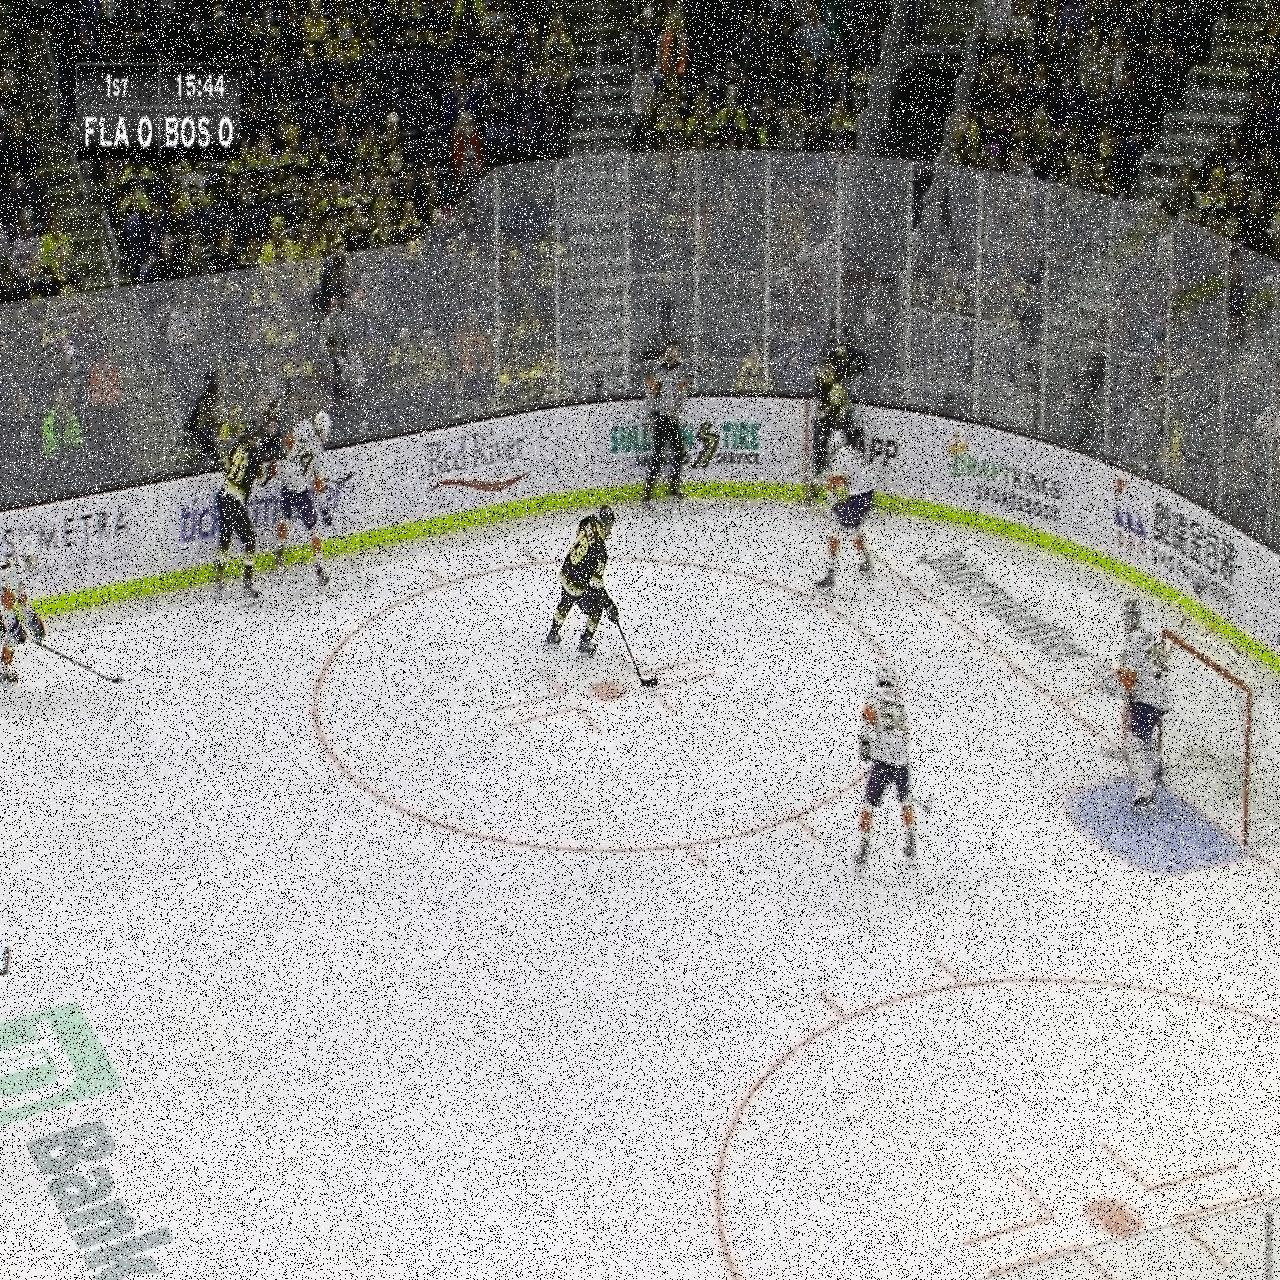Ad: (4, 961, 182, 1279), (912, 543, 1092, 690), (1115, 459, 1245, 611), (947, 413, 1065, 552), (605, 393, 763, 491), (170, 472, 361, 550), (0, 511, 137, 598), (418, 430, 535, 496)
